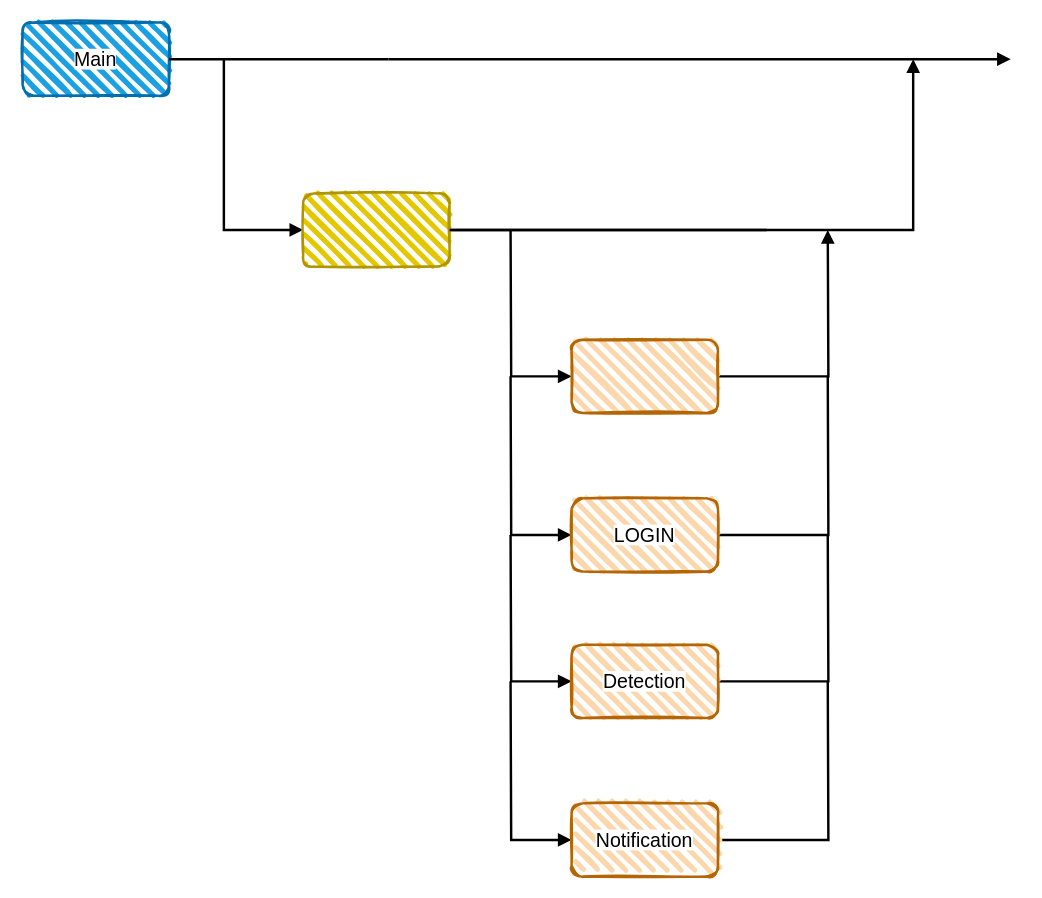
This 1042x898 diagram has some shape labels left out. Here are the shapes that lost their labels. From the top down, the box of each, then its label:
(301, 192, 450, 267): Dev
(570, 338, 719, 414): GUI
